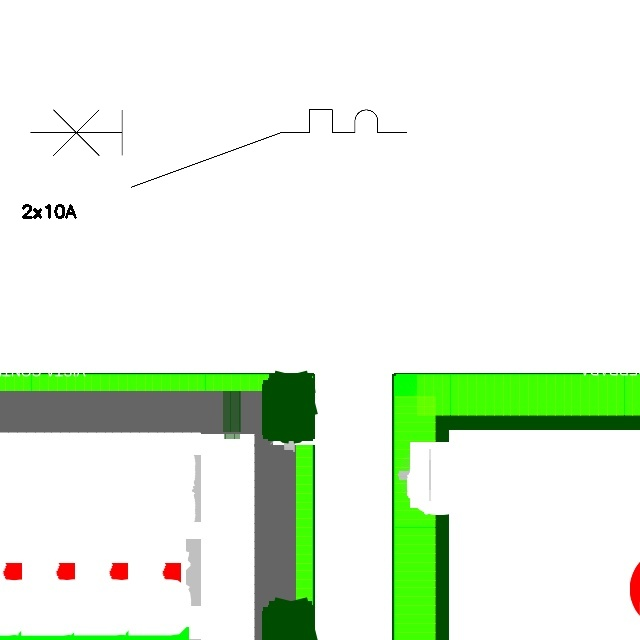interruptor_termomagnetico: (21, 100, 416, 197)
